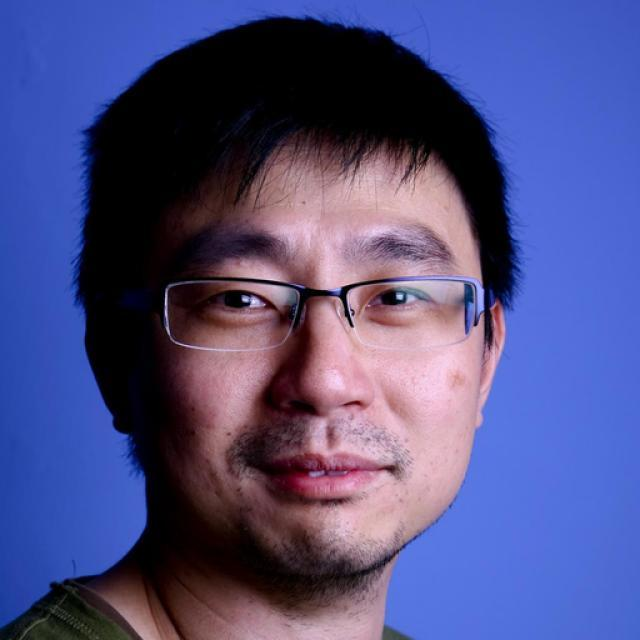happy: (143, 140, 484, 581)
